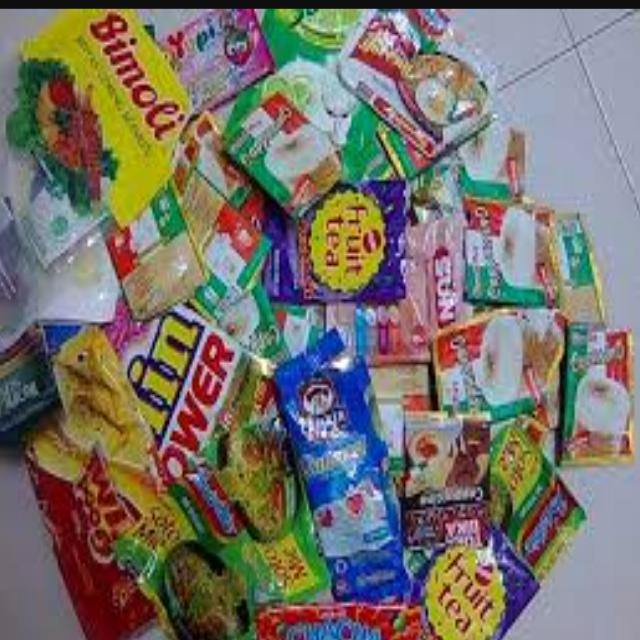KemasanPlastik: (10, 321, 207, 632), (2, 10, 192, 273), (275, 324, 425, 600), (256, 171, 421, 316), (340, 12, 500, 156), (455, 181, 610, 317), (394, 399, 493, 557), (554, 325, 632, 463)
